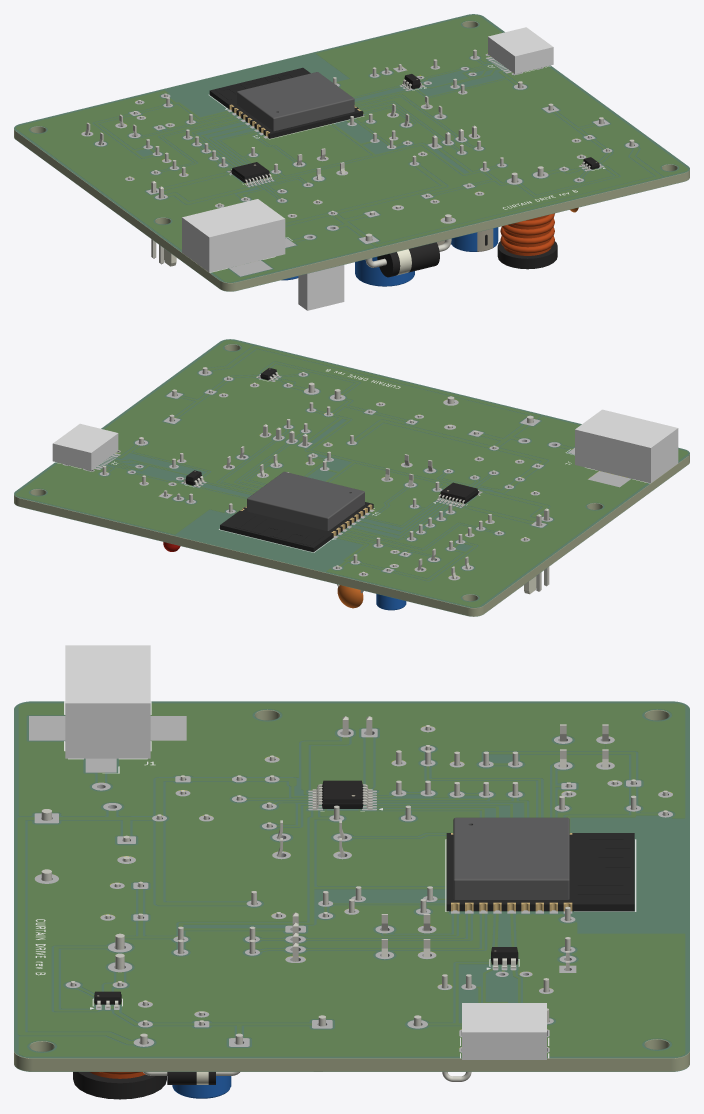
Rendered from curtain-drive-revB-pcb.glb.
3 views of the same model, one above another, from view 1: azimuth 30°, elevation 25°; view 2: azimuth 150°, elevation 25°; view 3: azimuth 270°, elevation 25° (orthographic). The views are drawn at different scales.
Visible parts, largest first — view 1: =>[0:1:1:48], =>[0:1:1:44], =>[0:1:1:50], =>[0:1:1:13], =>[0:1:1:3], =>[0:1:1:45], =>[0:1:1:23], =>[0:1:1:11], =>[0:1:1:35], =>[0:1:1:41], =>[0:1:1:33], =>[0:1:1:19] (+3 smaller); view 2: =>[0:1:1:48], =>[0:1:1:44], =>[0:1:1:50], =>[0:1:1:13], =>[0:1:1:3], =>[0:1:1:45], =>[0:1:1:11], =>[0:1:1:5], =>[0:1:1:49], =>[0:1:1:43], =>[0:1:1:21]; view 3: =>[0:1:1:48], =>[0:1:1:44], =>[0:1:1:50], =>[0:1:1:13], =>[0:1:1:45], =>[0:1:1:3], =>[0:1:1:11], =>[0:1:1:23], =>[0:1:1:5], =>[0:1:1:46], =>[0:1:1:17], =>[0:1:1:29].
Part boxes in pixels (left/top/right/bottom): =>[0:1:1:48]: left=14, top=14, right=689, bottom=282; =>[0:1:1:44]: left=16, top=15, right=687, bottom=281; =>[0:1:1:50]: left=14, top=15, right=689, bottom=291; =>[0:1:1:13]: left=209, top=67, right=363, bottom=138; =>[0:1:1:3]: left=182, top=199, right=285, bottom=272; =>[0:1:1:45]: left=81, top=53, right=638, bottom=276; =>[0:1:1:23]: left=497, top=166, right=557, bottom=269; =>[0:1:1:11]: left=488, top=27, right=553, bottom=73; =>[0:1:1:35]: left=365, top=214, right=451, bottom=277; =>[0:1:1:41]: left=298, top=265, right=344, bottom=310; =>[0:1:1:33]: left=355, top=205, right=414, bottom=286; =>[0:1:1:19]: left=451, top=183, right=498, bottom=251; =>[0:1:1:48]: left=14, top=339, right=689, bottom=607; =>[0:1:1:44]: left=16, top=340, right=687, bottom=606; =>[0:1:1:50]: left=14, top=340, right=689, bottom=616; =>[0:1:1:13]: left=220, top=471, right=373, bottom=552; =>[0:1:1:3]: left=575, top=409, right=678, bottom=483; =>[0:1:1:45]: left=62, top=370, right=630, bottom=580; =>[0:1:1:11]: left=52, top=423, right=118, bottom=470; =>[0:1:1:5]: left=437, top=482, right=481, bottom=506; =>[0:1:1:49]: left=14, top=463, right=689, bottom=616; =>[0:1:1:43]: left=524, top=508, right=549, bottom=594; =>[0:1:1:21]: left=336, top=565, right=364, bottom=608; =>[0:1:1:48]: left=14, top=701, right=689, bottom=1058; =>[0:1:1:44]: left=18, top=704, right=684, bottom=1055; =>[0:1:1:50]: left=14, top=702, right=689, bottom=1071; =>[0:1:1:13]: left=446, top=817, right=634, bottom=911; =>[0:1:1:45]: left=29, top=716, right=672, bottom=1052; =>[0:1:1:3]: left=65, top=645, right=150, bottom=758; =>[0:1:1:11]: left=462, top=1003, right=546, bottom=1059; =>[0:1:1:23]: left=73, top=933, right=166, bottom=1099; =>[0:1:1:5]: left=312, top=780, right=372, bottom=809; =>[0:1:1:46]: left=35, top=701, right=636, bottom=1058; =>[0:1:1:17]: left=140, top=1033, right=242, bottom=1084; =>[0:1:1:29]: left=172, top=1011, right=231, bottom=1098.
Size of the model in its own units: 0.0905 by 0.0209 by 0.072.
